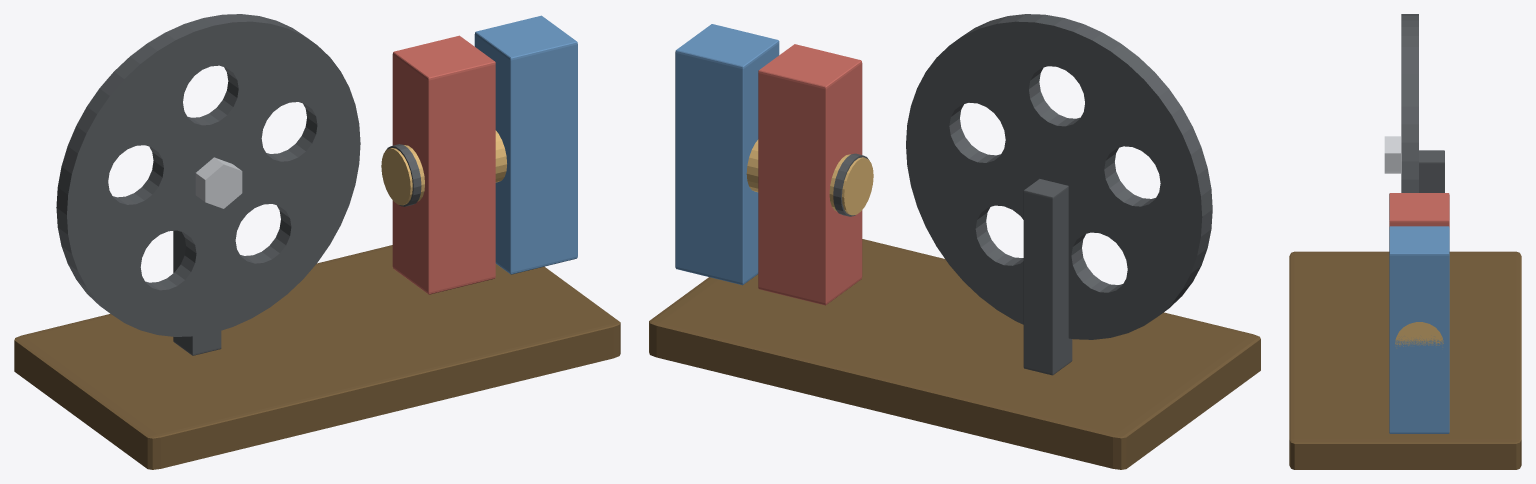
File: motor.glb
3 renders of one model, left to right at view 1: azimuth 30°, elevation 25°; view 2: azimuth 150°, elevation 25°; view 3: azimuth 270°, elevation 25°, orthographic. The views are drawn at different scales.
Parts seen in each view (by area): view 1: base, pulley, magnetN, magnetS, armature, hub, pulleypost, armringL; view 2: base, pulley, magnetN, magnetS, pulleypost, armature, armringL; view 3: base, magnetS, pulley, magnetN, pulleypost, armature, hub.
Boxes of the visible parts, x1=… form: base: x1=14, y1=245, x2=620, y2=469; pulley: x1=56, y1=14, x2=360, y2=336; magnetN: x1=392, y1=35, x2=495, y2=294; magnetS: x1=474, y1=15, x2=577, y2=274; armature: x1=381, y1=130, x2=506, y2=205; hub: x1=195, y1=157, x2=242, y2=208; pulleypost: x1=173, y1=230, x2=221, y2=355; armringL: x1=385, y1=144, x2=421, y2=206; base: x1=649, y1=239, x2=1260, y2=469; pulley: x1=906, y1=14, x2=1212, y2=339; magnetN: x1=758, y1=44, x2=862, y2=305; magnetS: x1=675, y1=24, x2=779, y2=285; pulleypost: x1=1023, y1=179, x2=1072, y2=375; armature: x1=746, y1=139, x2=873, y2=215; armringL: x1=833, y1=153, x2=869, y2=216; base: x1=1289, y1=251, x2=1521, y2=469; magnetS: x1=1389, y1=226, x2=1449, y2=433; pulley: x1=1401, y1=14, x2=1418, y2=192; magnetN: x1=1389, y1=193, x2=1449, y2=227; pulleypost: x1=1419, y1=150, x2=1444, y2=192; armature: x1=1395, y1=322, x2=1443, y2=348; hub: x1=1384, y1=136, x2=1400, y2=173.
Size of the model in its own units: 2.09 by 1.45 by 1.
